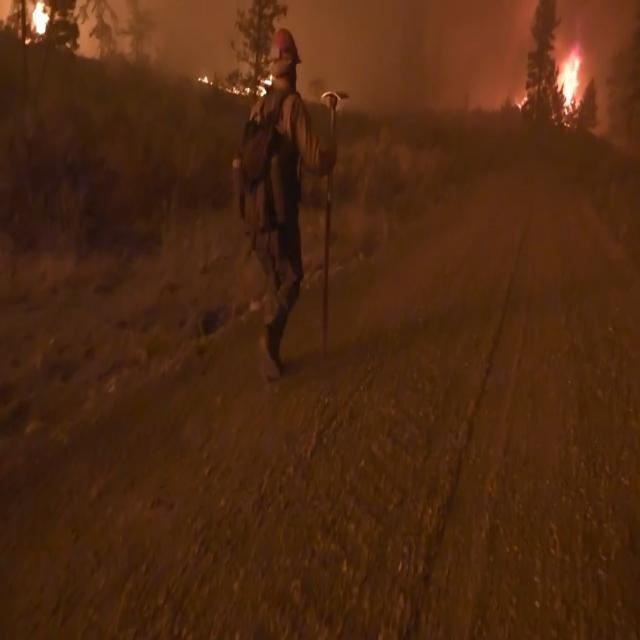Fire: (548, 21, 584, 131), (188, 54, 276, 99), (0, 0, 52, 50)
